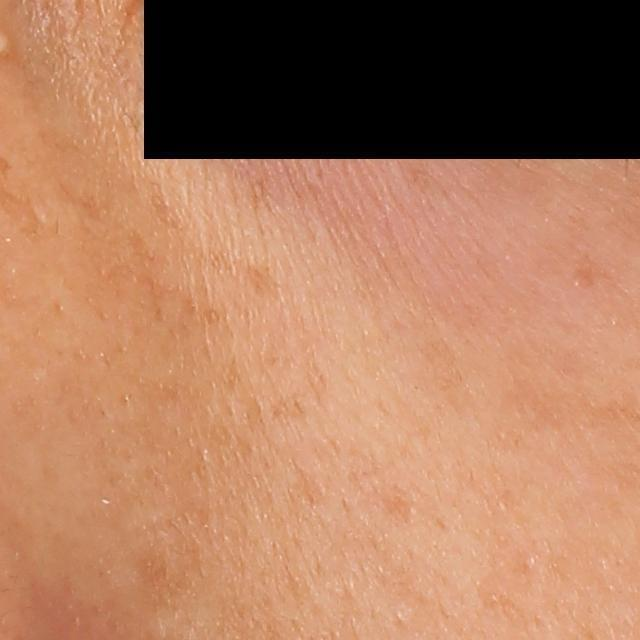melasma: (144, 177, 299, 315), (120, 219, 233, 340), (49, 174, 118, 232), (132, 549, 181, 616), (266, 389, 315, 432)
